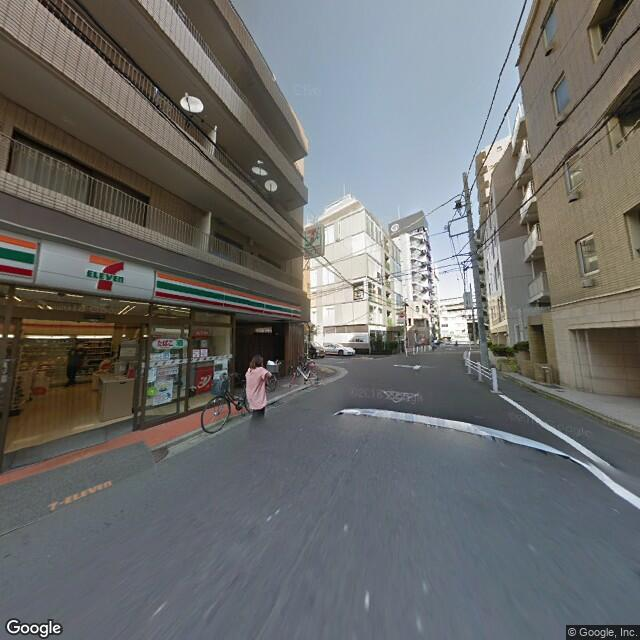7-eleven: (1, 224, 301, 323), (303, 222, 325, 250)
